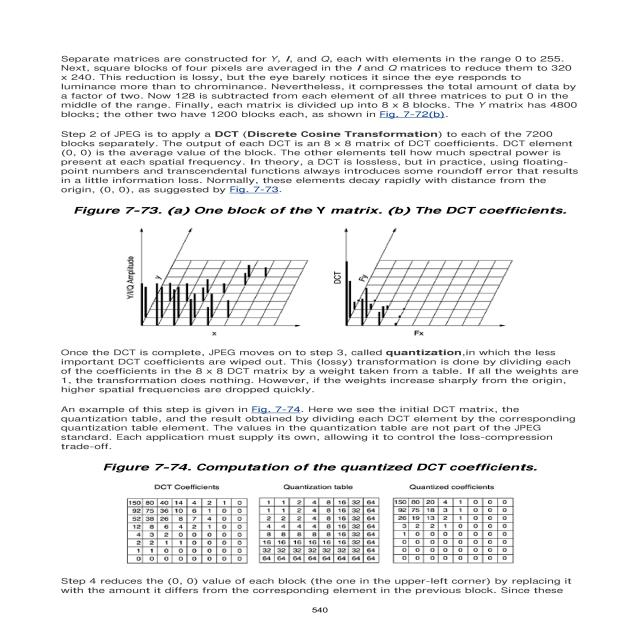diagram: (64, 190, 640, 338), (85, 458, 547, 573)
